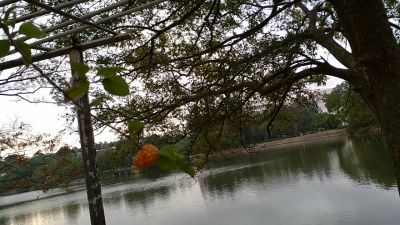eggs: (129, 144, 161, 171)
